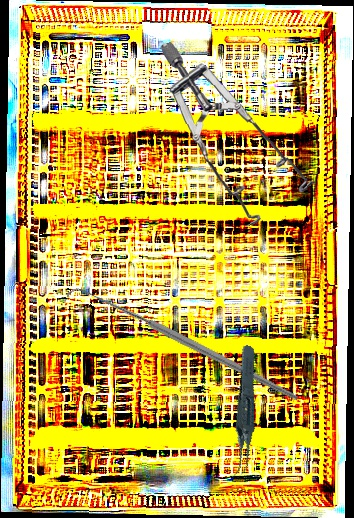Hook Surgical: (65, 218, 300, 474)
Speculum: (159, 35, 318, 230)
Tissue Forceps: (204, 343, 282, 481)
